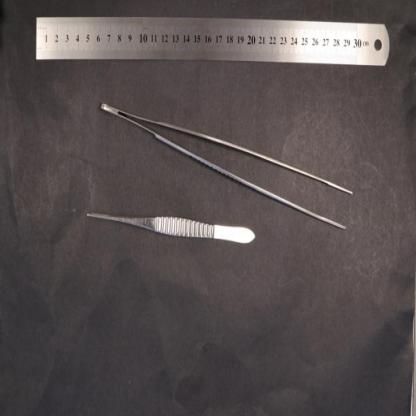DeBakey Dissector: (99, 102, 354, 230)
Gillies Toothed Dissector: (86, 213, 256, 246)
